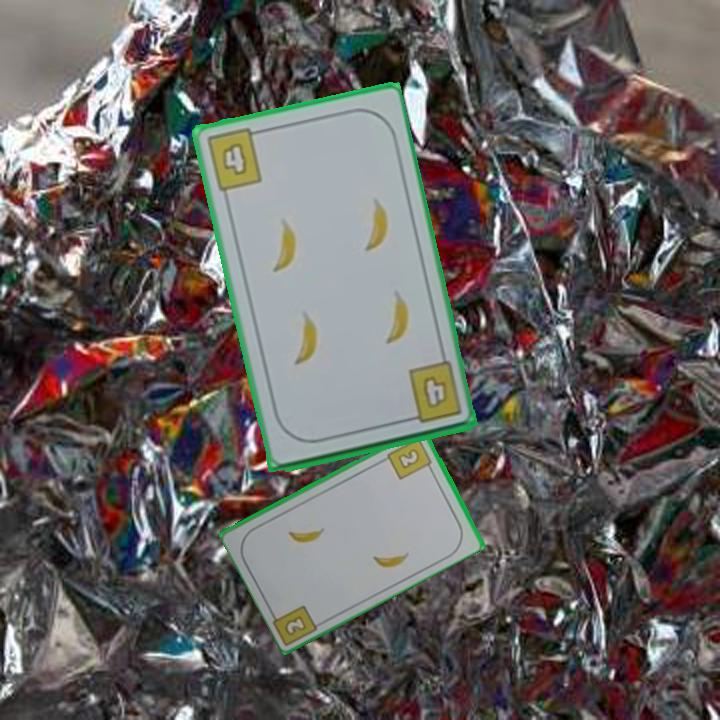2b: (384, 434, 435, 482), (283, 614, 307, 636)
4b: (400, 358, 465, 427), (202, 125, 266, 194)
